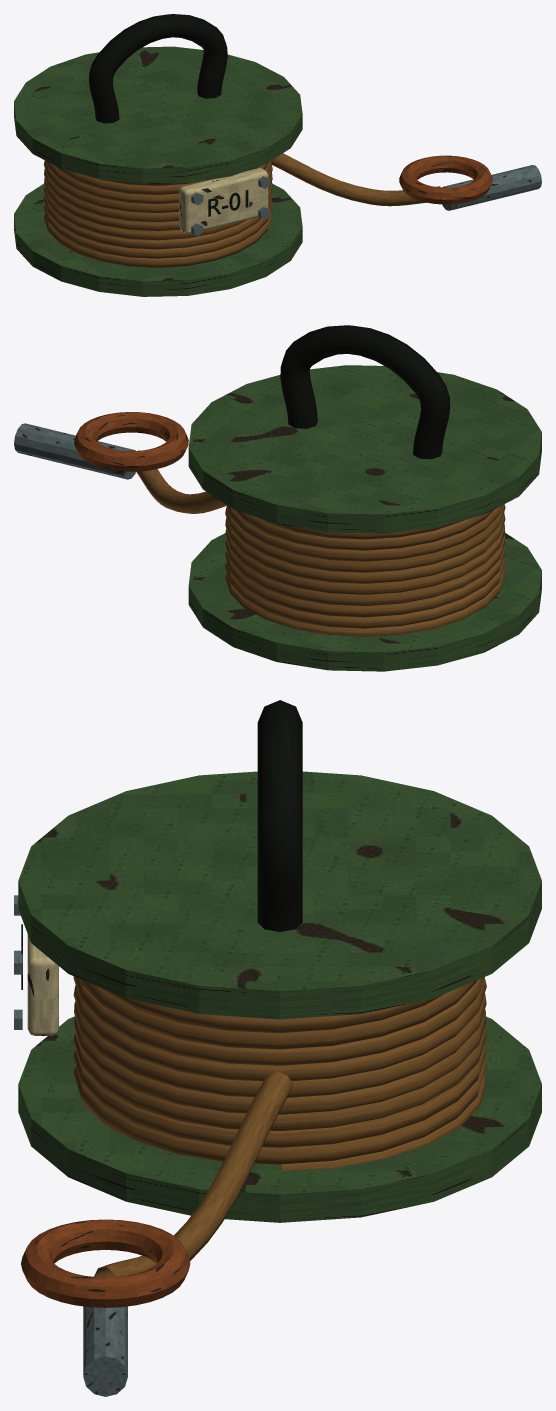
Rendered from eq-ropespool.glb.
The picture shows the model from 3 angles, top to bottom: view 1: azimuth 30°, elevation 25°; view 2: azimuth 150°, elevation 25°; view 3: azimuth 270°, elevation 25°; orthographic projection. The views are drawn at different scales.
Visible parts, largest first — view 1: Spool flange.001, Wound spool, Spool flange, Carry handle, Cream inset, Anchor eye, Rope lead, Anchor spike, Mark_R-01; view 2: Spool flange.001, Wound spool, Spool flange, Carry handle, Anchor eye, Anchor spike, Rope lead; view 3: Spool flange.001, Wound spool, Spool flange, Carry handle, Anchor eye, Rope lead, Anchor spike, Cream inset.
Boxes of the visible parts, <box> form: Spool flange.001: <box>14,46,302,184</box>; Wound spool: <box>43,160,272,267</box>; Spool flange: <box>14,183,302,296</box>; Carry handle: <box>89,14,227,123</box>; Cream inset: <box>179,168,268,233</box>; Anchor eye: <box>399,155,492,204</box>; Rope lead: <box>271,153,440,206</box>; Anchor spike: <box>442,165,541,210</box>; Mark_R-01: <box>208,190,248,216</box>; Spool flange.001: <box>188,365,541,533</box>; Wound spool: <box>225,504,505,636</box>; Spool flange: <box>188,533,541,671</box>; Carry handle: <box>280,325,450,459</box>; Anchor eye: <box>74,412,188,471</box>; Anchor spike: <box>14,423,135,479</box>; Rope lead: <box>136,450,226,513</box>; Spool flange.001: <box>18,771,541,1019</box>; Wound spool: <box>73,976,486,1170</box>; Spool flange: <box>18,1016,541,1222</box>; Carry handle: <box>257,700,302,931</box>; Anchor eye: <box>21,1219,190,1307</box>; Rope lead: <box>94,1071,293,1277</box>; Anchor spike: <box>83,1306,127,1396</box>; Cream inset: <box>27,934,58,1035</box>.
Size of the model in its own units: 0.76 by 0.3507 by 0.4235.
7 materials, 7 textured.
